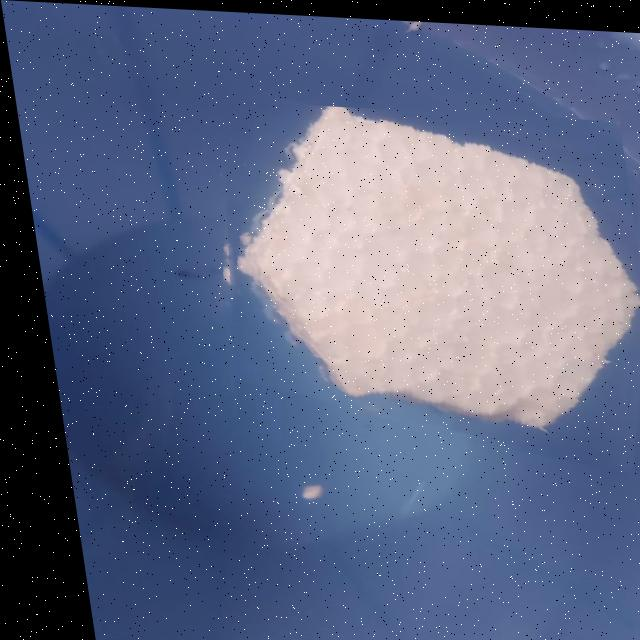litter: (186, 97, 640, 455)
